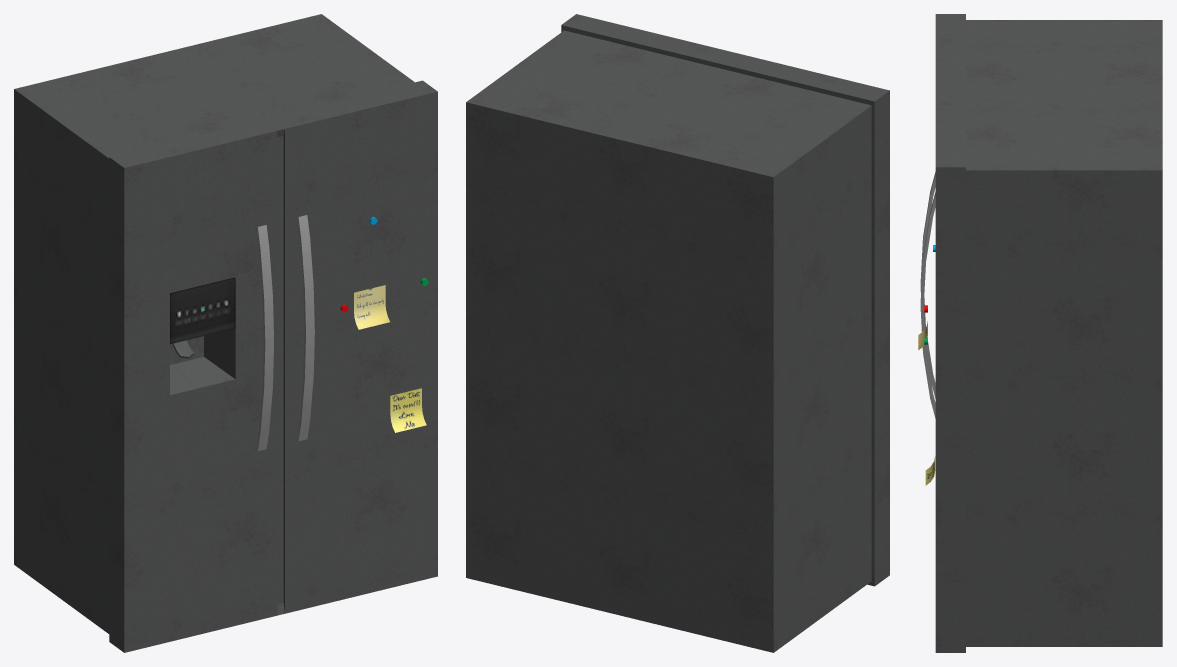
Rendered from Refrigerator.FBX.
3 views of the same model, side by side, from view 1: azimuth 30°, elevation 25°; view 2: azimuth 150°, elevation 25°; view 3: azimuth 270°, elevation 25° (orthographic).
Parts seen in each view (by area): view 1: Refrigerator; view 2: Refrigerator; view 3: Refrigerator.
Part boxes in pixels (bbox=[...]): Refrigerator: bbox=[14, 14, 437, 652]; Refrigerator: bbox=[466, 14, 889, 652]; Refrigerator: bbox=[918, 14, 1162, 652].
Bounding box in the file's own units: 40.5 × 59.85 × 27.29.
